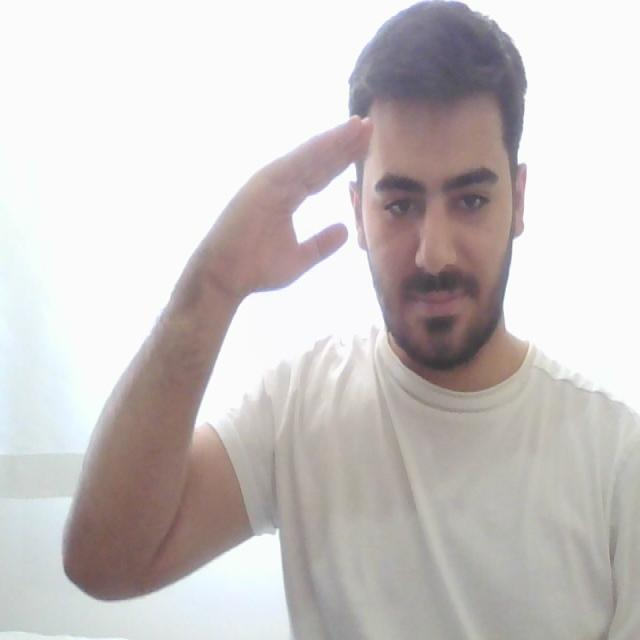Merhaba: (209, 58, 411, 316)
